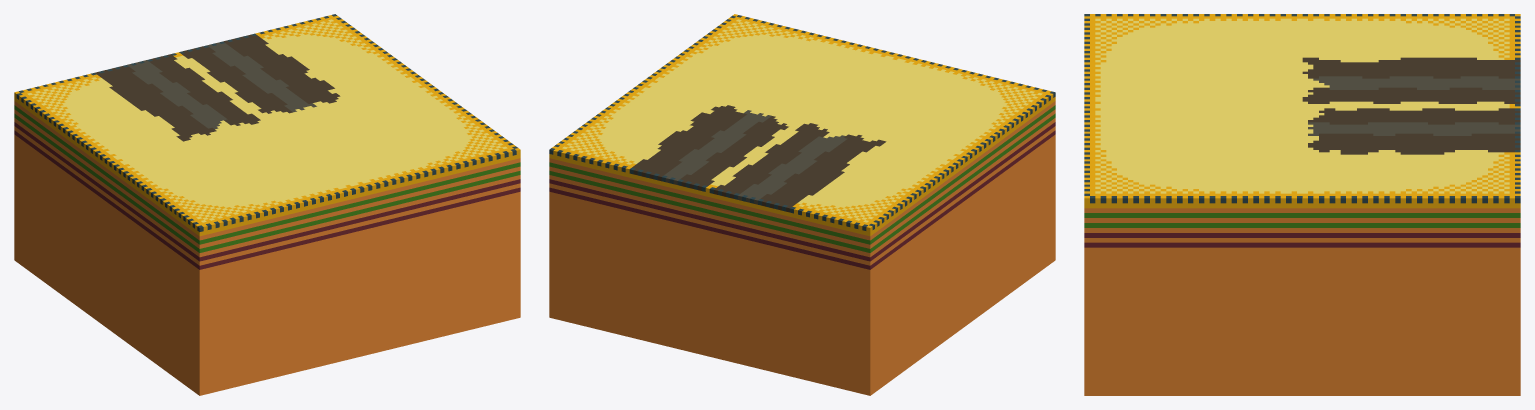
Rendered from sand_road_transition_3_tile.obj.
The picture shows the model from 3 angles, left to right: view 1: azimuth 30°, elevation 25°; view 2: azimuth 150°, elevation 25°; view 3: azimuth 270°, elevation 25°; orthographic projection. The views are drawn at different scales.
Bounding box in the file's own units: 8 × 4 × 8.
Materials: 1 (1 with a texture image).
